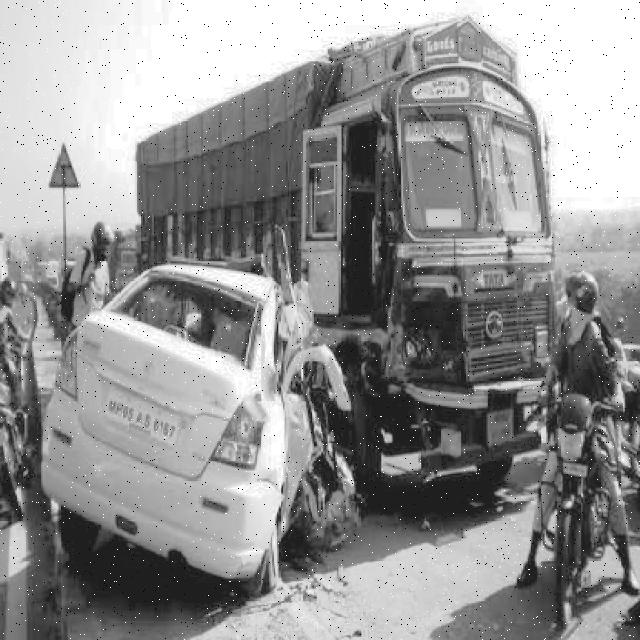HCV: (142, 79, 540, 456)
